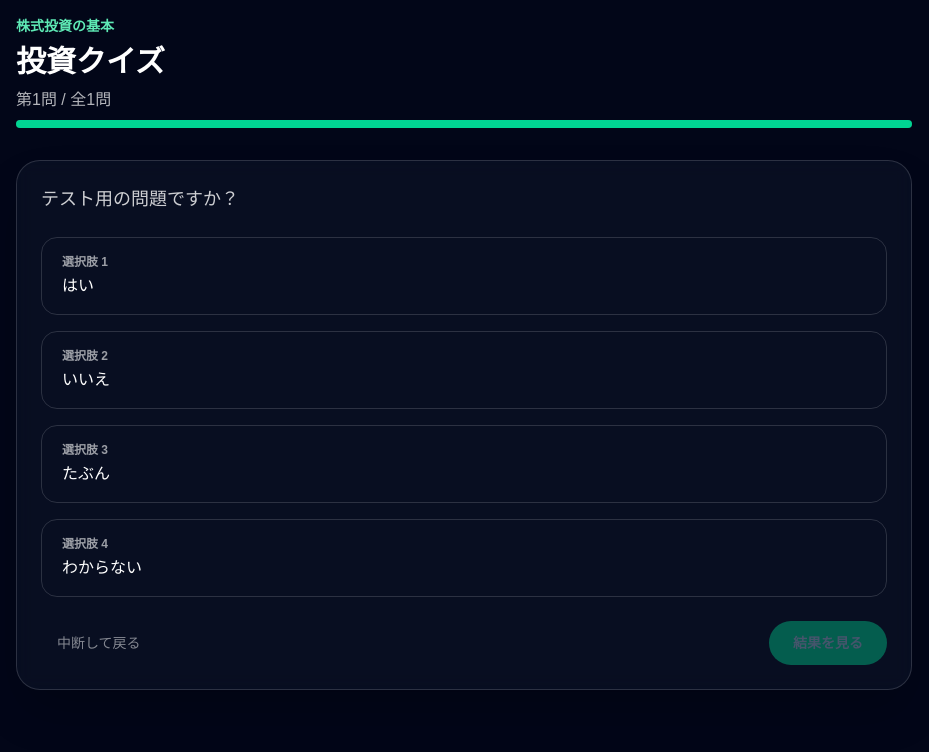
Scenario: Quiz page › shows explanations after finishing the quiz
Click the button "選択肢 1 はい": (82, 262) [41,237,887,315]
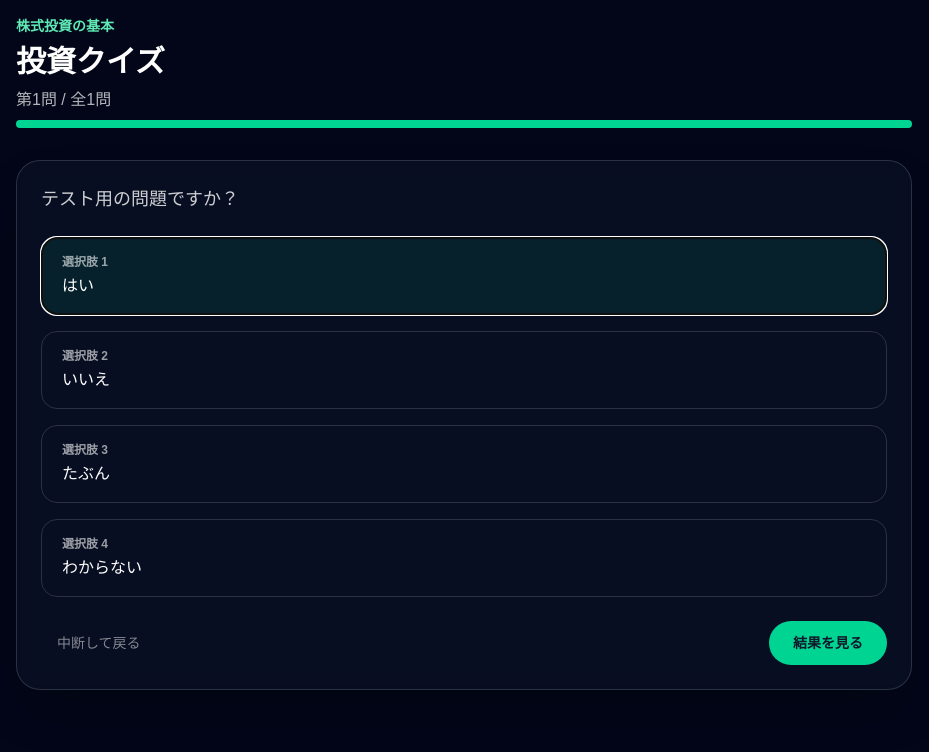
Click the button "結果を見る": (828, 643) [769,621,887,665]
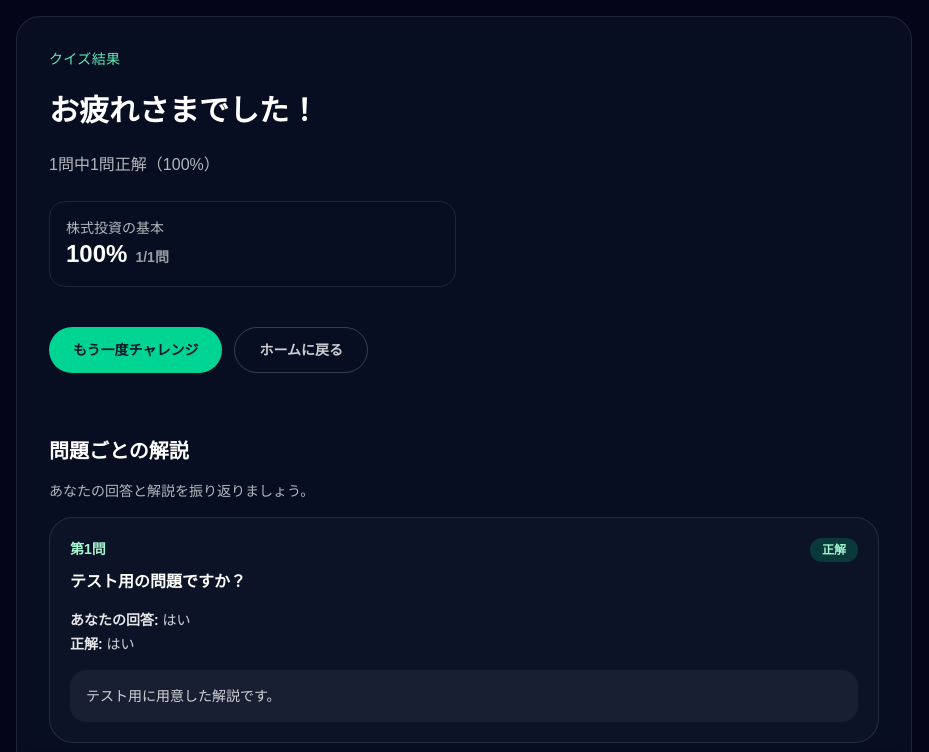
Expected: the heading "テスト用の問題ですか？" is shown, [70,573,246,590]
Expected: the heading "お疲れさまでした！" is shown, [49,94,319,127]
Expected: the text "テスト用に用意した解説です。" is shown, [70,670,858,722]
